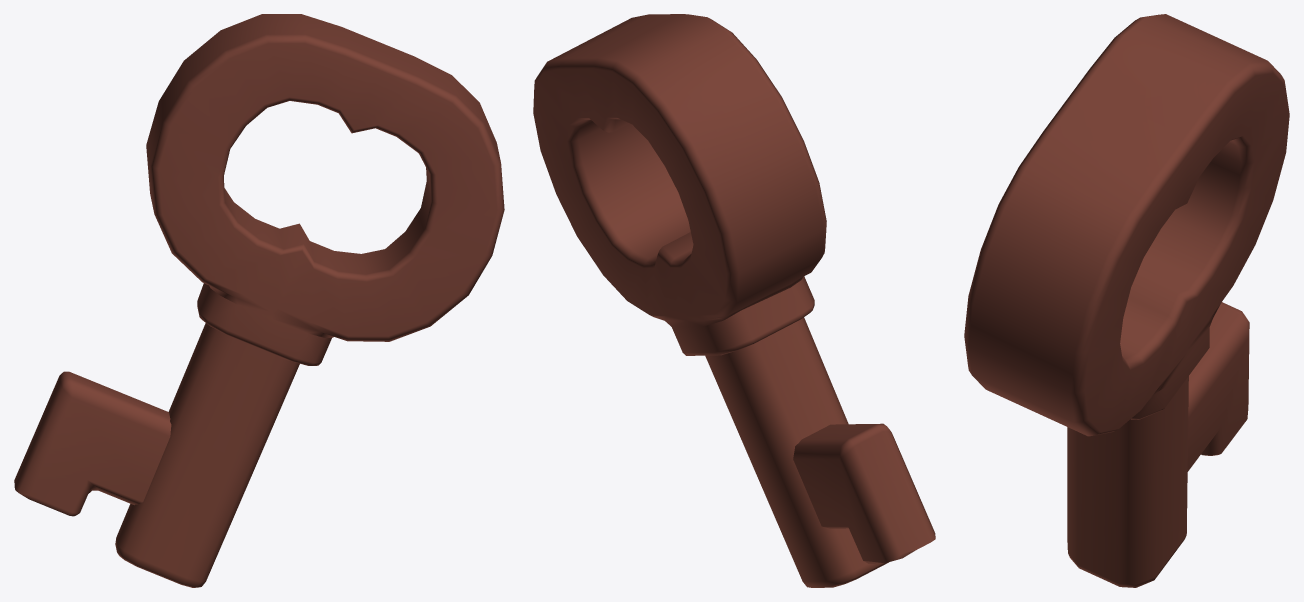
3 views of the same model, side by side, from view 1: azimuth 30°, elevation 25°; view 2: azimuth 150°, elevation 25°; view 3: azimuth 270°, elevation 25° (orthographic). The views are drawn at different scales.
Parts seen in each view (by area): view 1: model_1.103; view 2: model_1.103; view 3: model_1.103.
Boxes of the visible parts, x1,y1,x2,y2 form: model_1.103: (14,14,504,587); model_1.103: (533,14,935,587); model_1.103: (964,14,1289,587).
Size of the model in its own units: 3.95 by 4.53 by 2.17.
